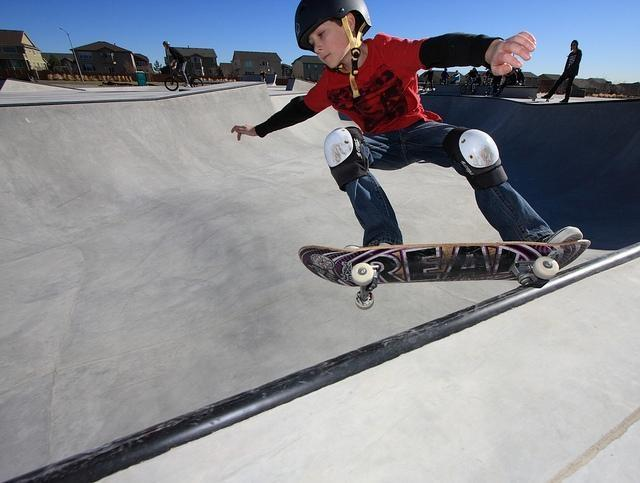bicycle: (164, 73, 204, 91), (460, 76, 478, 94), (450, 76, 458, 84)
